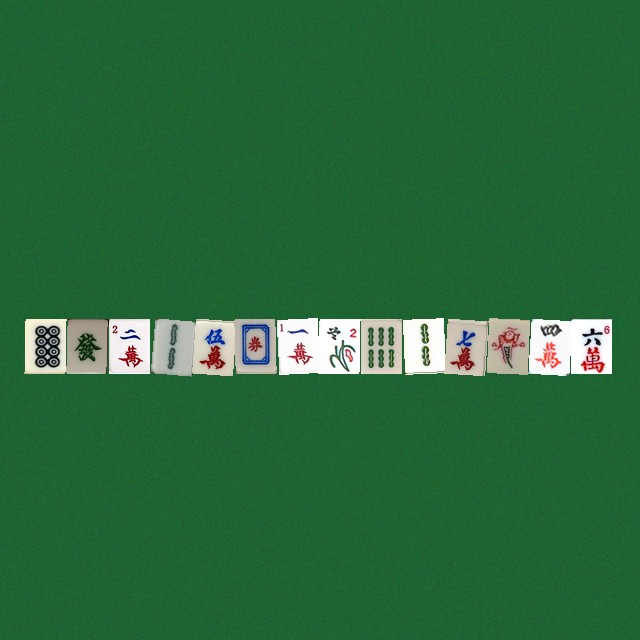tile: (24, 318, 65, 373), (66, 318, 107, 373), (108, 318, 149, 373), (150, 318, 191, 373), (192, 318, 233, 373), (234, 318, 275, 373), (276, 318, 317, 373), (318, 318, 359, 373), (360, 318, 401, 373), (402, 318, 443, 373), (444, 318, 485, 373), (486, 318, 527, 373), (528, 318, 569, 373), (570, 318, 611, 373)
